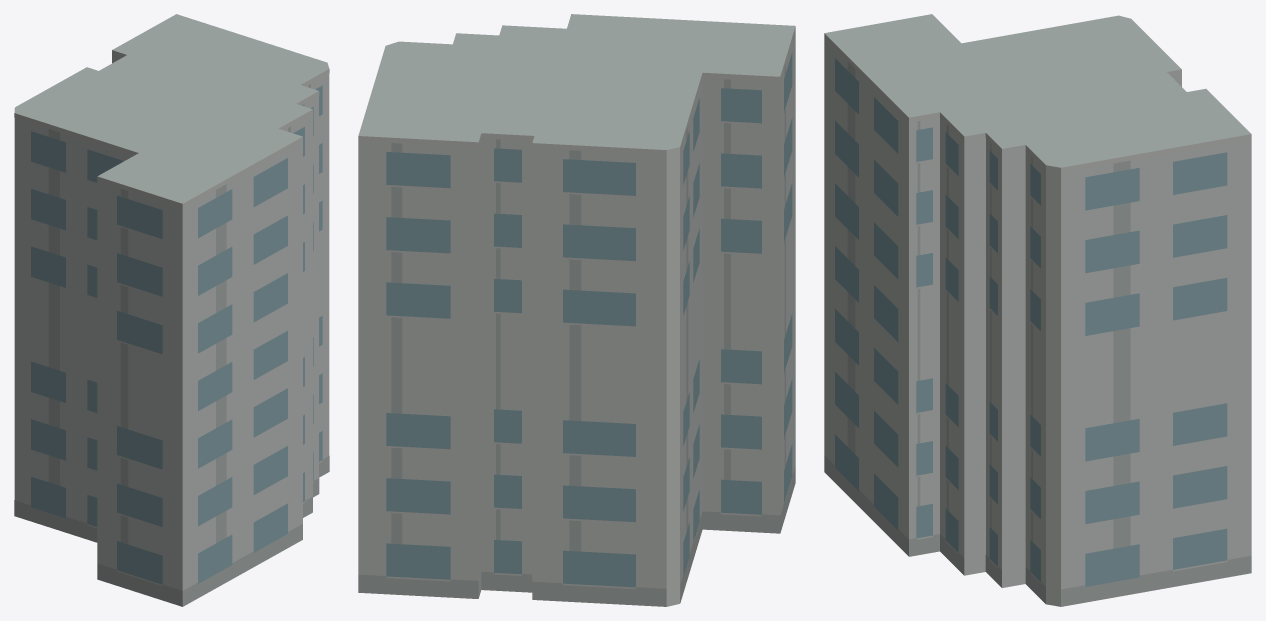
Rendered from survey-upis-32783615.glb.
The picture shows the model from 3 angles, left to right: view 1: azimuth 30°, elevation 25°; view 2: azimuth 150°, elevation 25°; view 3: azimuth 270°, elevation 25°; orthographic projection. The views are drawn at different scales.
Visible parts, largest first — view 1: survey-upis-32783615.tmp; view 2: survey-upis-32783615.tmp; view 3: survey-upis-32783615.tmp.
Part boxes in pixels (x1,y1,x2,y2): survey-upis-32783615.tmp: [14, 14, 329, 606]; survey-upis-32783615.tmp: [358, 14, 795, 606]; survey-upis-32783615.tmp: [824, 14, 1251, 606].
Size of the model in its own units: 15.7 by 20.9 by 18.43.
